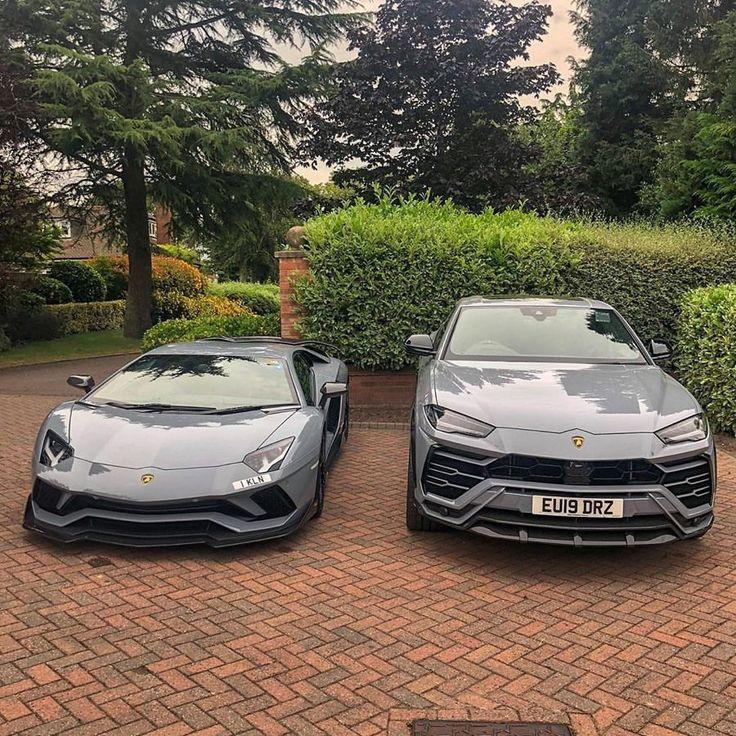car: (398, 270, 733, 620), (11, 275, 363, 601)
